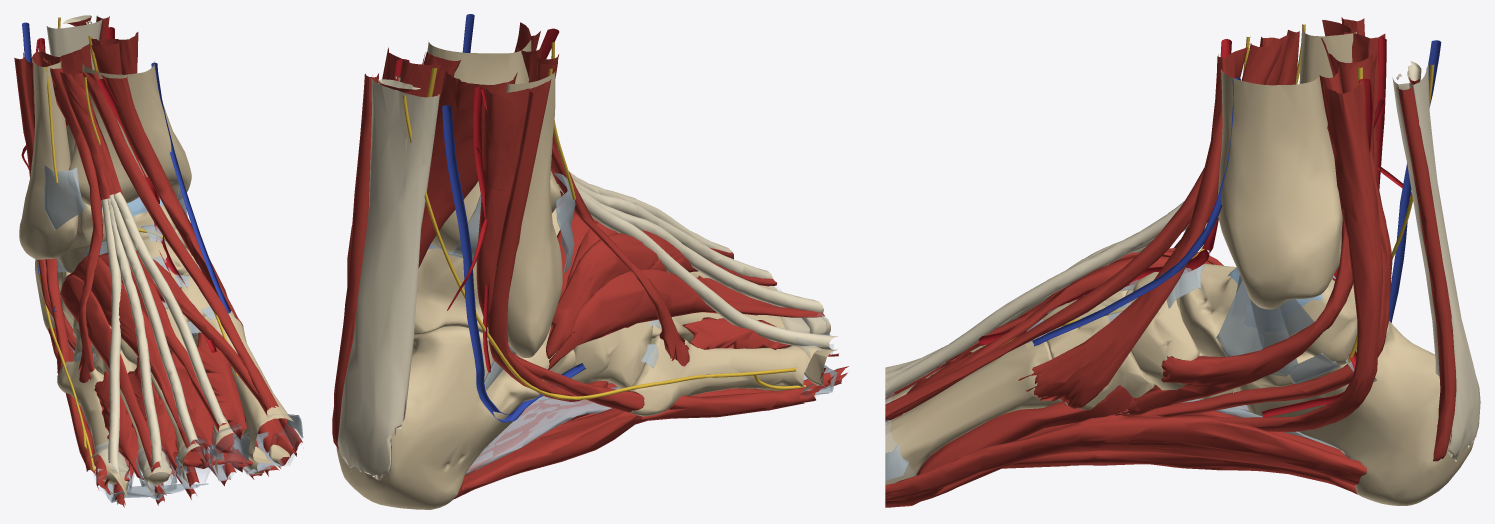
File: joint-ankle.b863f327.glb
3 renders of one model, left to right at view 1: azimuth 30°, elevation 25°; view 2: azimuth 150°, elevation 25°; view 3: azimuth 270°, elevation 25°, orthographic. The views are drawn at different scales.
Visible parts, largest first — view 1: Tendon_TendonOfExtensorDigitorumLongus_Right, Muscle_ExtensorDigitorumBrevis_Right, Muscle_DorsalInterosseiMusclesOfFoot_Right, Bone_Fibula_Right, Bone_Tibia_Right, Muscle_ExtensorHallucisLongus_Right, Muscle_TibialisAnteriorMuscle_Right, Capsule_ArticularCapsulesOfMetatarsophalangealJoints_Right, Muscle_FibularisTertiusMuscle_Right, Muscle_ExtensorDigitorumLongus_Right, Bone_FifthMetatarsalBone_Right, Bone_FirstMetatarsalBone_Right (+32 smaller); view 2: Tendon_CalcanealTendon_Right, Bone_Calcaneus_Right, Muscle_ExtensorDigitorumBrevis_Right, Tendon_TendonOfExtensorDigitorumLongus_Right, Bone_Fibula_Right, Muscle_FibularisBrevisMuscle_Right, Muscle_AbductorDigitiMinimiOfFoot_Right, Bone_FifthMetatarsalBone_Right, Muscle_FibularisLongusMuscle_Right, Muscle_FlexorHallucisLongus_Right, Muscle_PlantarisMuscle_Right, Bone_Tibia_Right (+16 smaller); view 3: Bone_Tibia_Right, Bone_Calcaneus_Right, Muscle_AbductorHallucis_Right, Muscle_FlexorDigitorumLongus_Right, Muscle_TibialisAnteriorMuscle_Right, Bone_FirstMetatarsalBone_Right, Muscle_TibialisPosteriorMuscle_Right, Tendon_CalcanealTendon_Right, Muscle_ExtensorHallucisLongus_Right, Muscle_FlexorHallucisLongus_Right, Muscle_PlantarisMuscle_Right, Bone_Talus_Right (+21 smaller).
Part boxes in pixels (x1,y1,x2,y2): Tendon_TendonOfExtensorDigitorumLongus_Right: (101,192,226,478); Muscle_ExtensorDigitorumBrevis_Right: (60,254,226,472); Muscle_DorsalInterosseiMusclesOfFoot_Right: (94,332,247,479); Bone_Fibula_Right: (19,59,78,259); Bone_Tibia_Right: (66,61,191,207); Muscle_ExtensorHallucisLongus_Right: (78,70,278,410); Muscle_TibialisAnteriorMuscle_Right: (101,74,244,334); Capsule_ArticularCapsulesOfMetatarsophalangealJoints_Right: (93,414,301,501); Muscle_FibularisTertiusMuscle_Right: (50,67,103,382); Muscle_ExtensorDigitorumLongus_Right: (59,68,122,199); Bone_FifthMetatarsalBone_Right: (57,356,128,484); Bone_FirstMetatarsalBone_Right: (193,311,293,462); Tendon_CalcanealTendon_Right: (337,76,439,480); Bone_Calcaneus_Right: (336,326,575,509); Muscle_ExtensorDigitorumBrevis_Right: (546,212,824,369); Tendon_TendonOfExtensorDigitorumLongus_Right: (557,171,838,350); Bone_Fibula_Right: (496,71,562,357); Muscle_FibularisBrevisMuscle_Right: (476,79,644,412); Muscle_AbductorDigitiMinimiOfFoot_Right: (453,367,826,499); Bone_FifthMetatarsalBone_Right: (628,335,824,416); Muscle_FibularisLongusMuscle_Right: (488,89,608,401); Muscle_FlexorHallucisLongus_Right: (418,70,517,267); Muscle_PlantarisMuscle_Right: (332,73,378,448); Bone_Tibia_Right: (427,40,560,252); Bone_Tibia_Right: (1218,69,1342,309); Bone_Calcaneus_Right: (1233,321,1474,505); Muscle_AbductorHallucis_Right: (885,415,1366,501); Muscle_FlexorDigitorumLongus_Right: (1172,72,1383,431); Muscle_TibialisAnteriorMuscle_Right: (1018,47,1247,408); Bone_FirstMetatarsalBone_Right: (885,341,1061,484); Muscle_TibialisPosteriorMuscle_Right: (1120,65,1352,415); Tendon_CalcanealTendon_Right: (1392,61,1480,461); Muscle_ExtensorHallucisLongus_Right: (885,41,1282,418); Muscle_FlexorHallucisLongus_Right: (921,37,1392,501); Muscle_PlantarisMuscle_Right: (1398,86,1456,461); Bone_Talus_Right: (1179,263,1357,365).
Bounding box in the file's own units: 0.0885 × 0.1343 × 0.1643.
